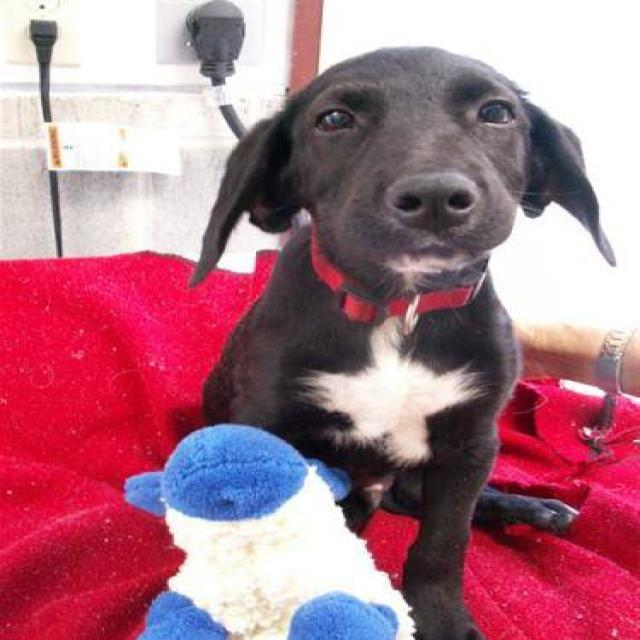dog: (188, 44, 618, 638)
